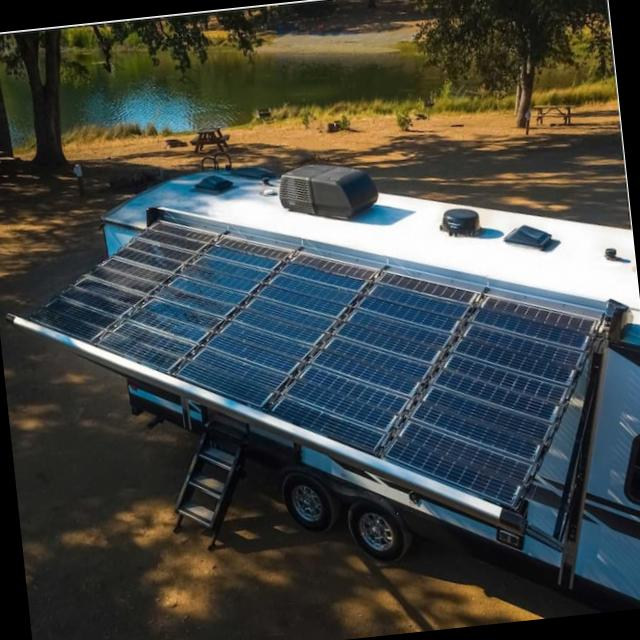no faulty: (80, 251, 587, 497)
